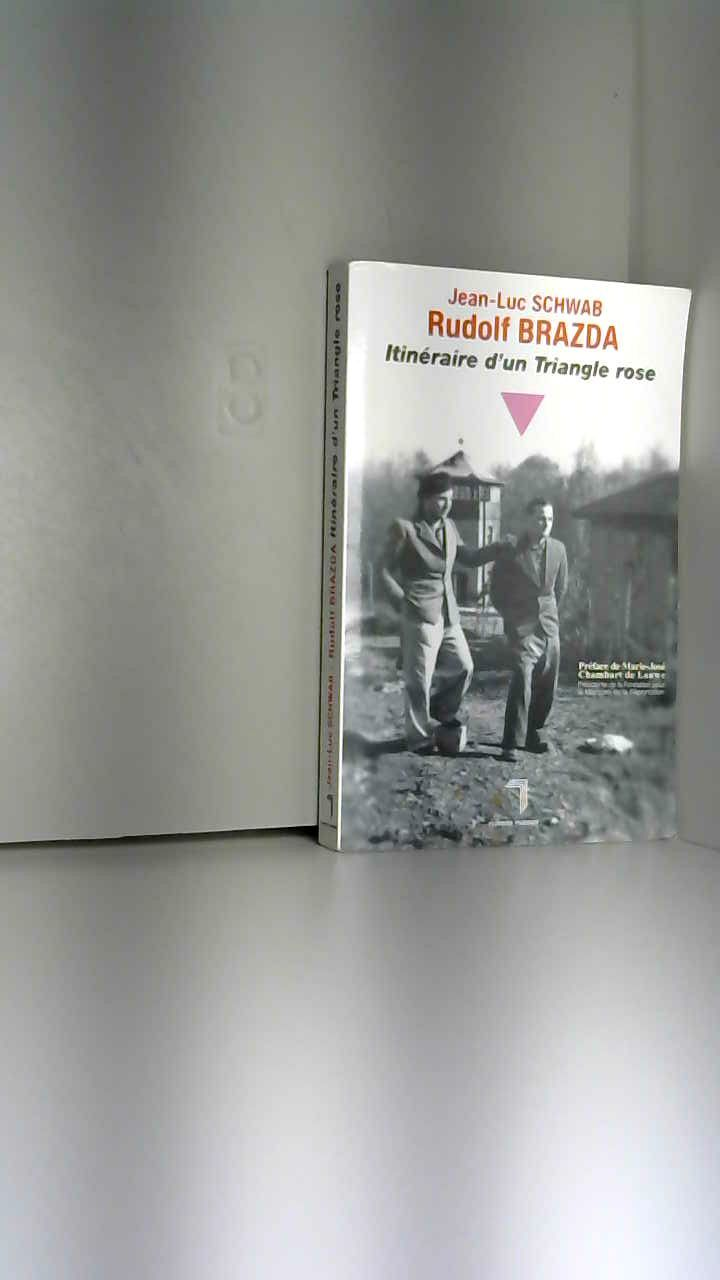book: (290, 230, 720, 872)
